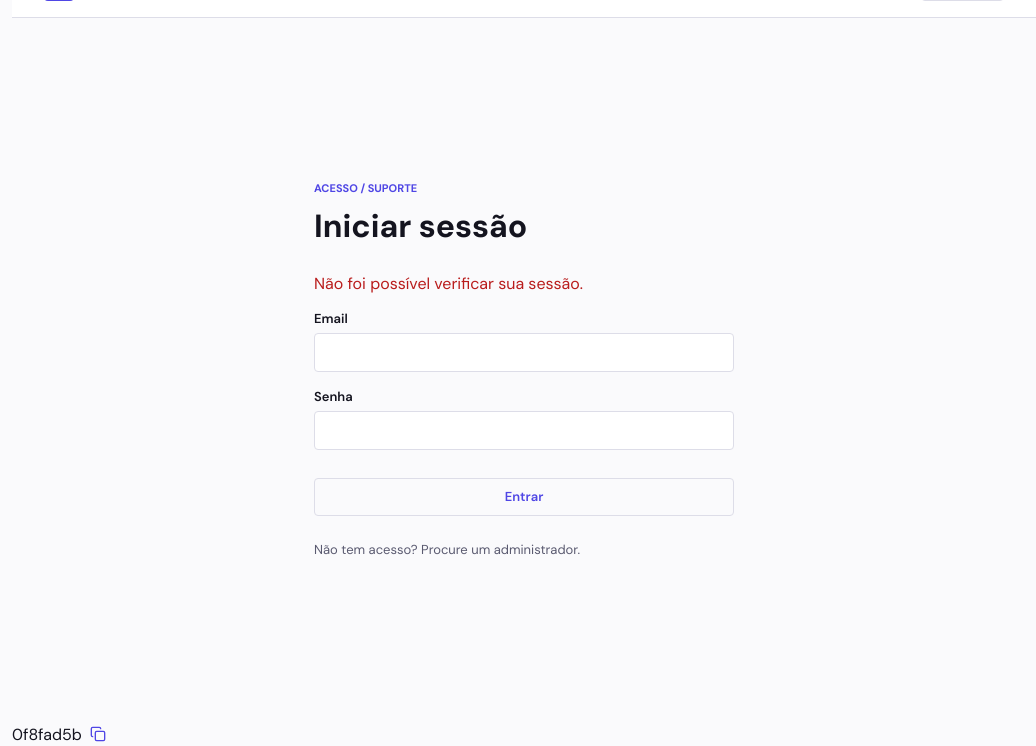
Test case: IdChip confirms copying the full ID only after clipboard success and reports failures
(page scrolled)
Click the button named "Copiar ID 0f8fad5b-d9cb-469f-a165-70867728950e" at (98, 734), box [86,722,110,745]
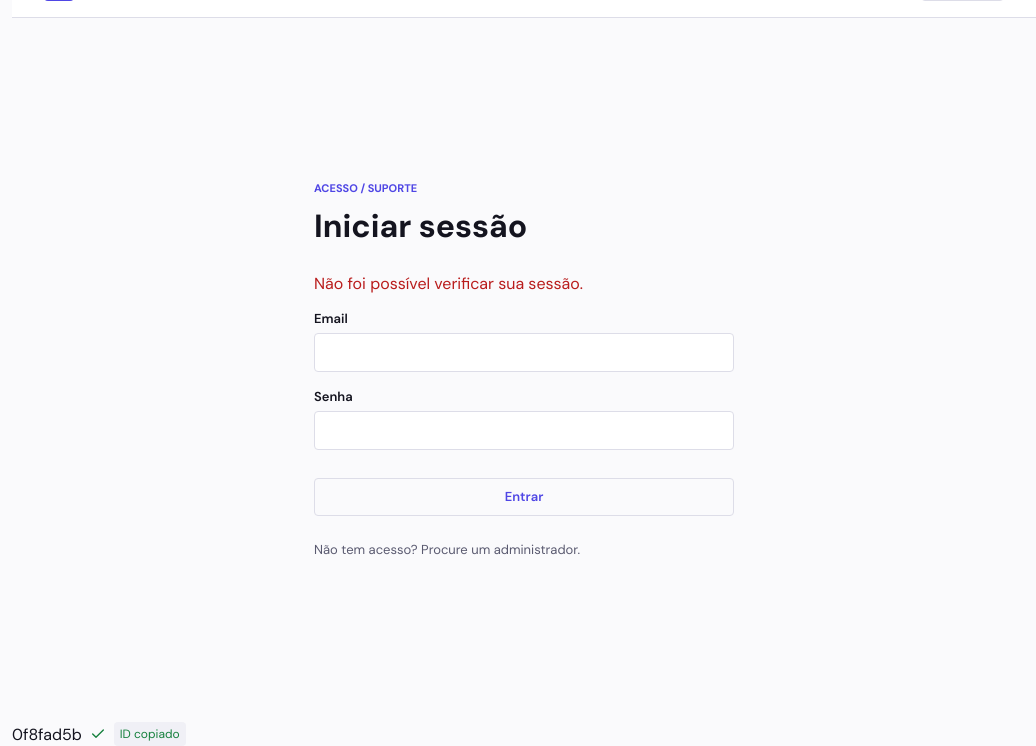
Expected: the text "ID copiado" is shown, [114,722,186,745]
Click the button named "Copiar ID 0f8fad5b-d9cb-469f-a165-70867728950e" at (98, 734), box [86,722,110,745]
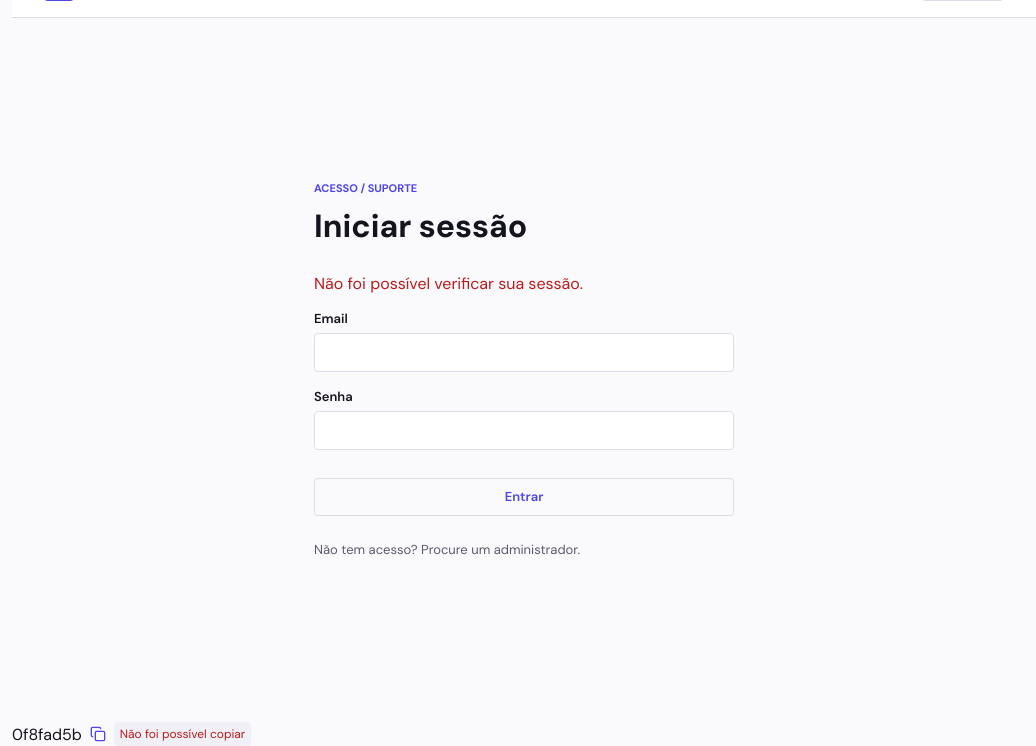
Expected: the text "Não foi possível copiar" is shown, [114,722,251,745]
Expected: the text "ID copiado" is gone
